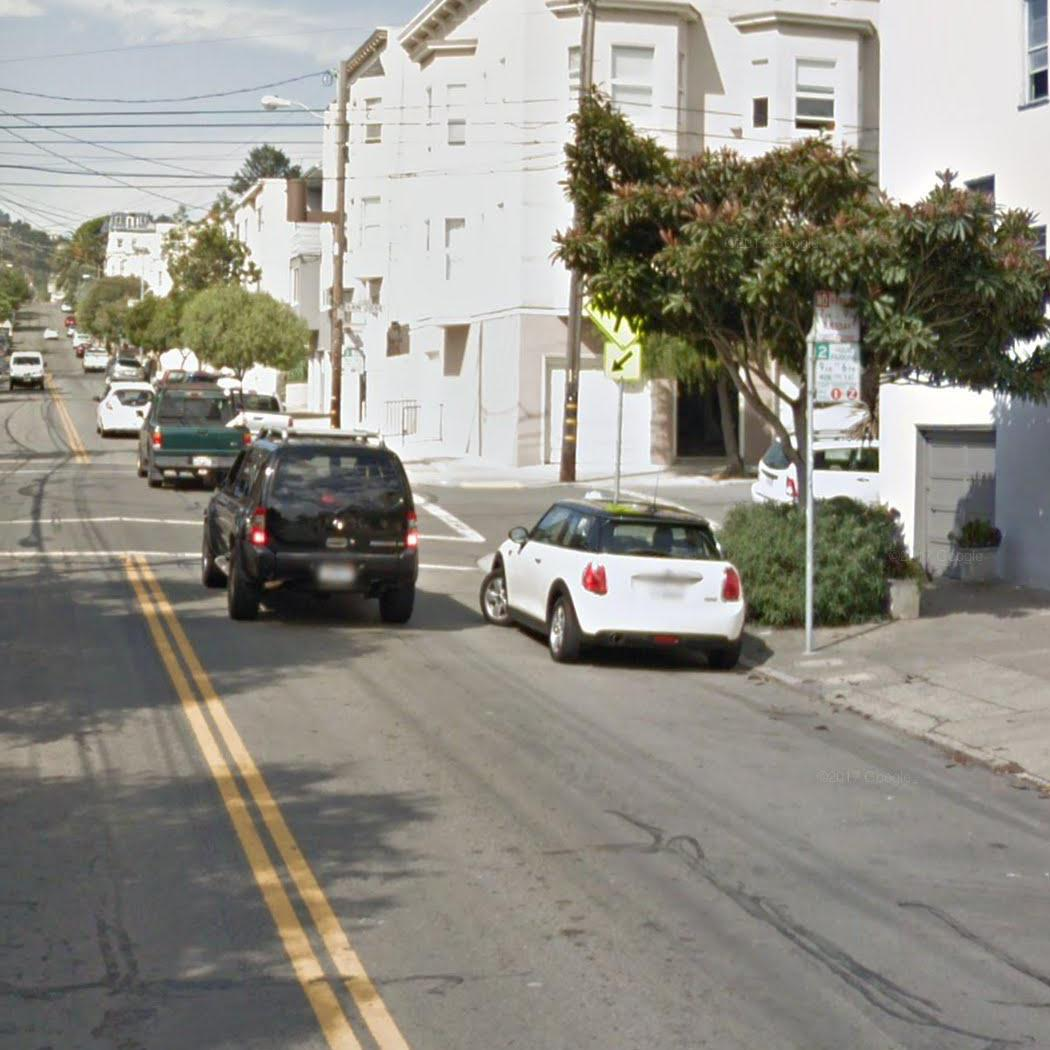1 Hour Parking: (342, 348, 364, 374)
2 Hour Parking: (812, 343, 861, 404)
No Parking: (813, 290, 862, 345)
